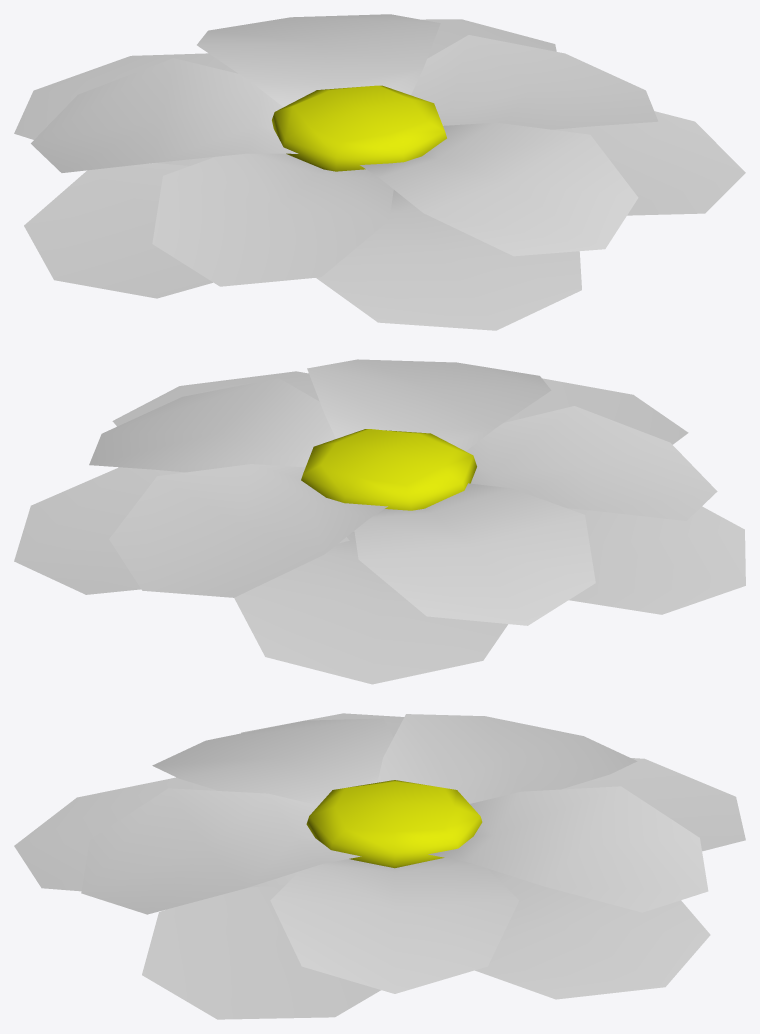
The model's file is Obj_Flor.fbx.
The picture shows the model from 3 angles, top to bottom: view 1: azimuth 30°, elevation 25°; view 2: azimuth 150°, elevation 25°; view 3: azimuth 270°, elevation 25°; orthographic projection.
Parts seen in each view (by area): view 1: Cube.001; view 2: Cube.001; view 3: Cube.001.
Boxes of the visible parts, x1,y1,x2,y2 form: Cube.001: (14, 14, 745, 330); Cube.001: (14, 359, 745, 684); Cube.001: (14, 713, 745, 1019).
Size of the model in its own units: 2.96 by 0.3628 by 2.95.
